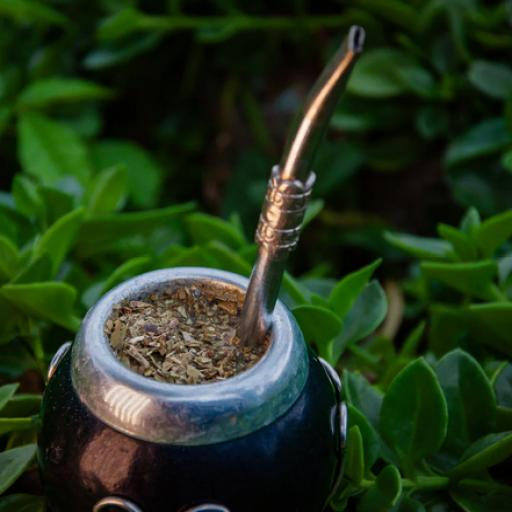mate: (39, 268, 347, 511)
